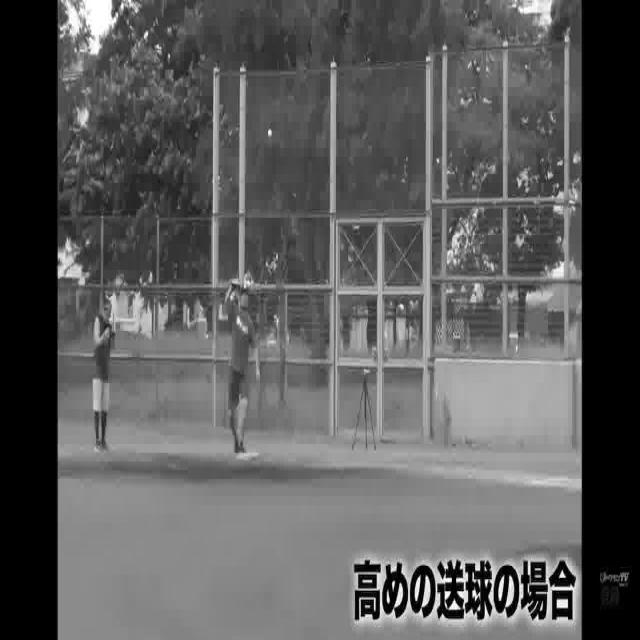baseball: (268, 130, 272, 136)
